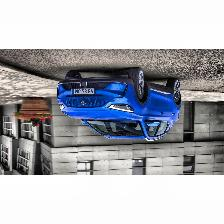EV: (58, 69, 182, 144)
